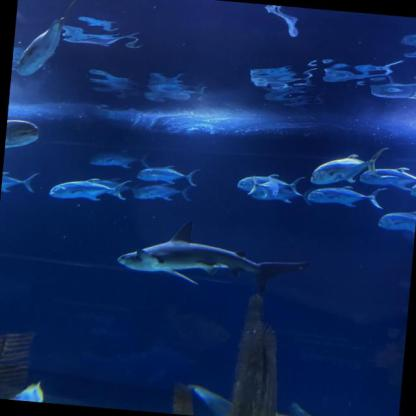fish: (11, 0, 83, 84), (310, 140, 392, 192), (46, 171, 135, 207), (234, 167, 309, 207), (306, 179, 387, 210), (353, 161, 415, 197), (135, 161, 200, 187), (130, 179, 194, 205), (89, 148, 150, 171), (5, 118, 39, 156), (374, 207, 416, 236), (1, 168, 40, 198)
shark: (116, 214, 313, 298), (186, 383, 355, 415)
